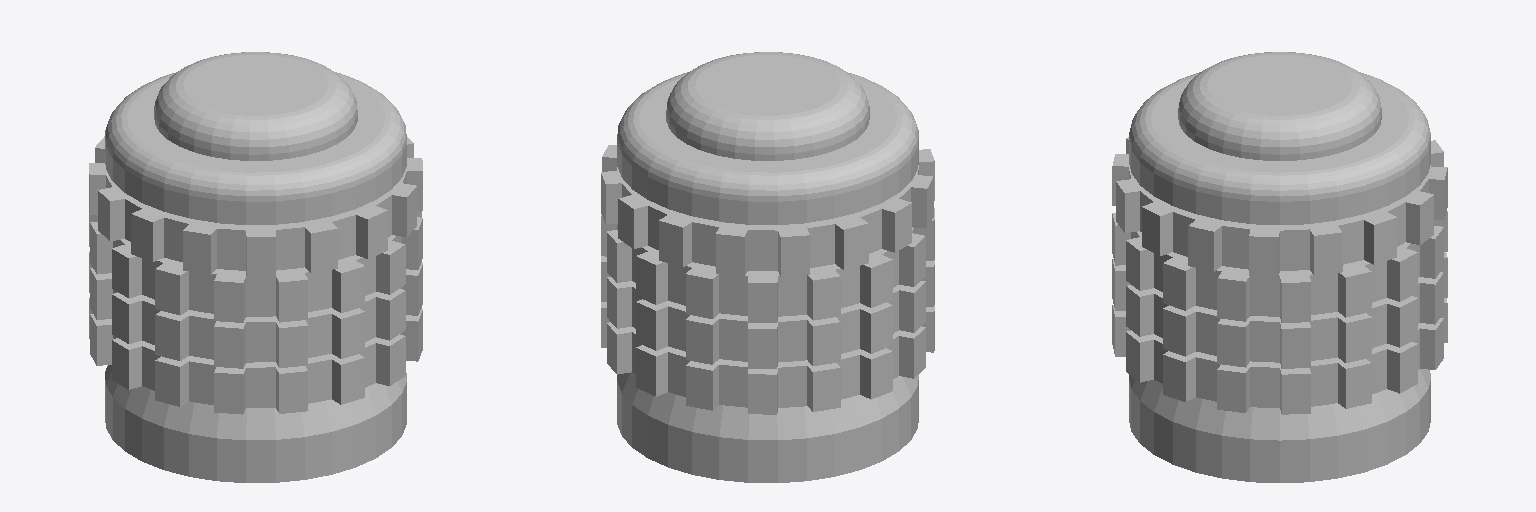
File: Cylindical Tank.obj
3 renders of one model, left to right at view 1: azimuth 30°, elevation 25°; view 2: azimuth 150°, elevation 25°; view 3: azimuth 270°, elevation 25°, orthographic.
Parts seen in each view (by area): view 1: Cylinder.045; view 2: Cylinder.045; view 3: Cylinder.045.
Boxes of the visible parts, box(x1,y1,x2,y2) form: Cylinder.045: box(89, 52, 422, 482); Cylinder.045: box(601, 52, 934, 482); Cylinder.045: box(1112, 52, 1447, 482).
Size of the model in its own units: 11.29 by 12.69 by 11.29.